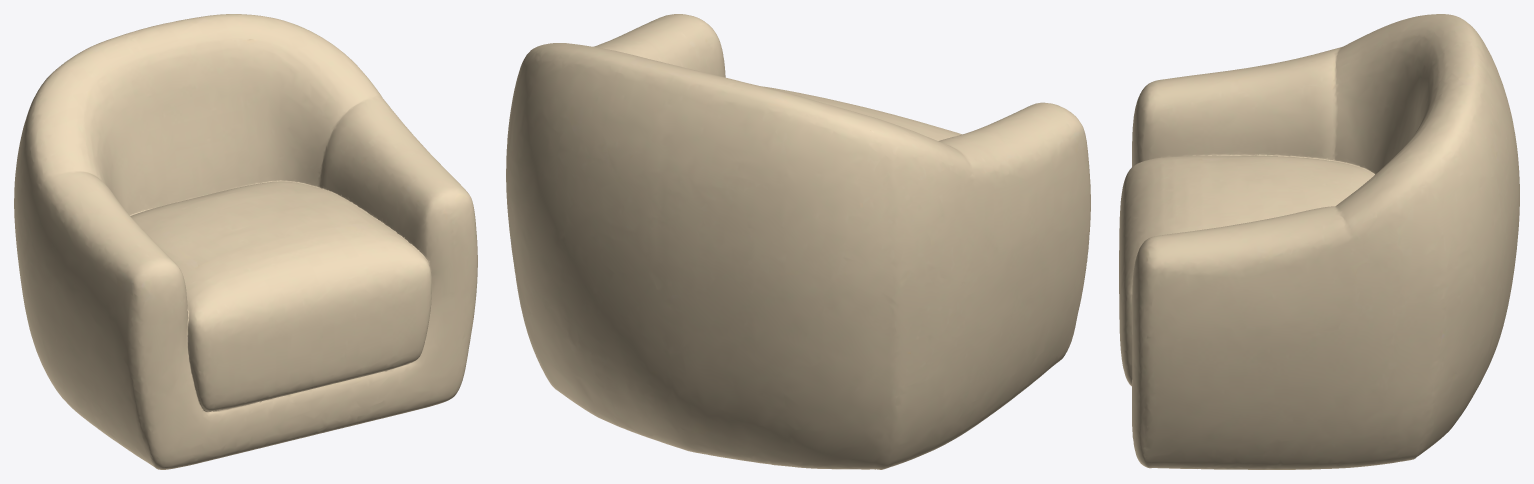
Rendered from lounge-chair-cream-boucle-web-mesh.glb.
The picture shows the model from 3 angles, left to right: view 1: azimuth 30°, elevation 25°; view 2: azimuth 150°, elevation 25°; view 3: azimuth 270°, elevation 25°; orthographic projection. The views are drawn at different scales.
Parts seen in each view (by area): view 1: world; view 2: world; view 3: world.
Part boxes in pixels (x1=…): world: x1=14, y1=14, x2=477, y2=469; world: x1=506, y1=14, x2=1090, y2=469; world: x1=1119, y1=14, x2=1519, y2=469.
Size of the model in its own units: 1 by 0.8088 by 0.8792.
1 material, 1 textured.
